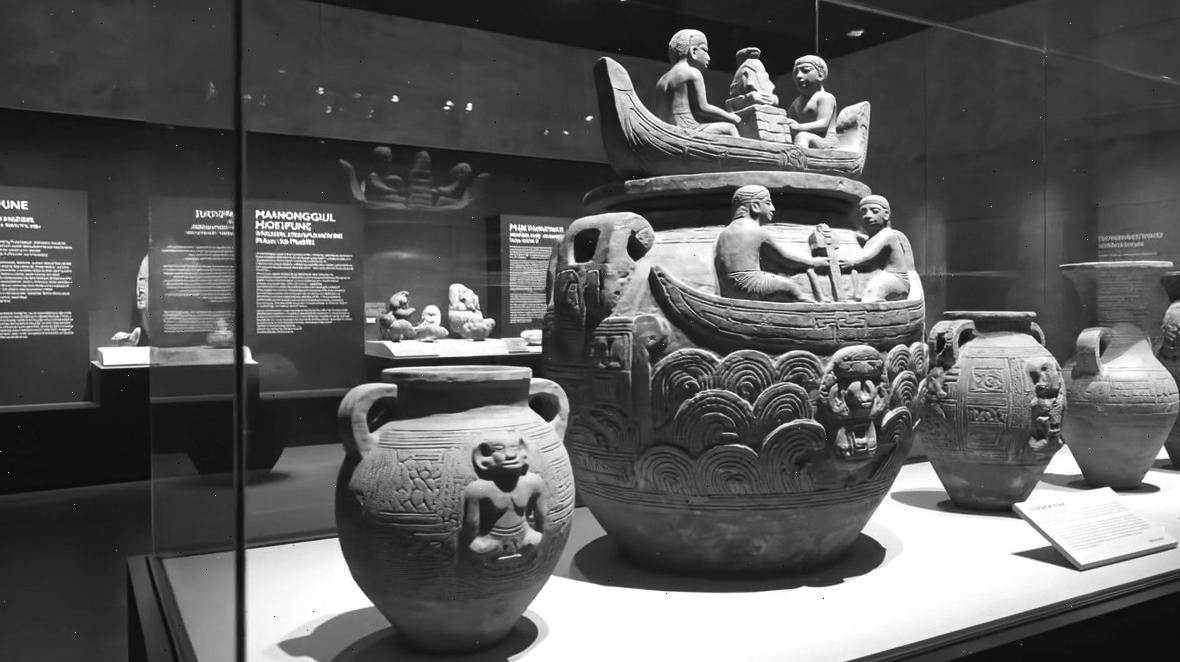manunggul_jar: (536, 0, 930, 580)
